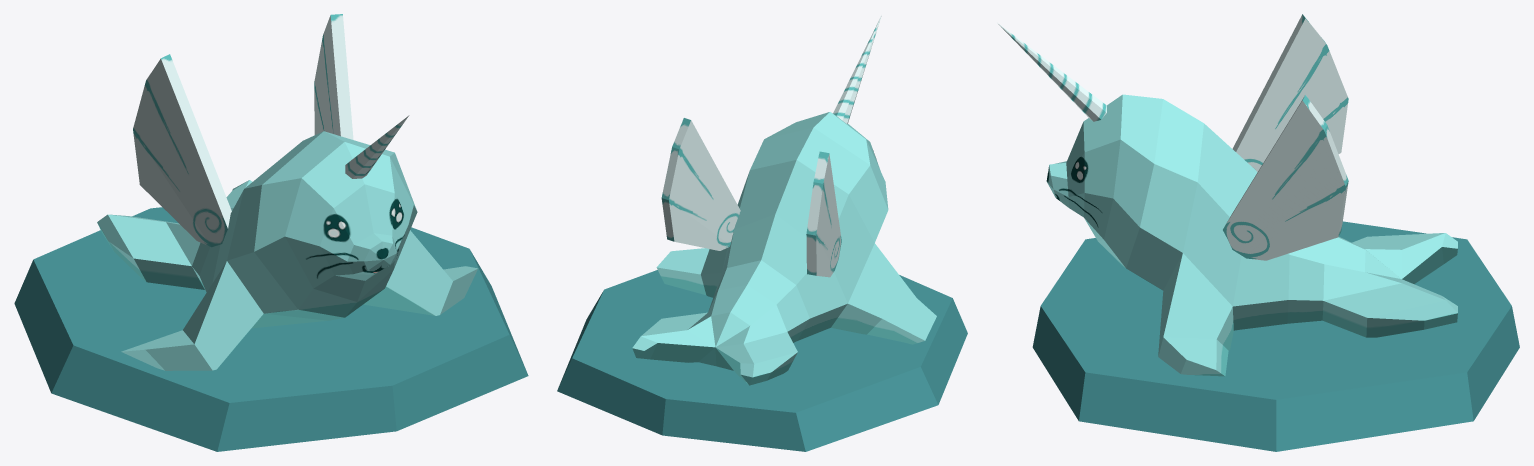
Rendered from Pawn_Ashely.fbx.
The picture shows the model from 3 angles, left to right: view 1: azimuth 30°, elevation 25°; view 2: azimuth 150°, elevation 25°; view 3: azimuth 270°, elevation 25°; orthographic projection. The views are drawn at different scales.
Visible parts, largest first — view 1: Ashley_Stand, polySurface_Body, polySurface_Wings, polySurface_Horn; view 2: polySurface_Body, Ashley_Stand, polySurface_Wings, polySurface_Horn; view 3: Ashley_Stand, polySurface_Body, polySurface_Wings, polySurface_Horn.
Part boxes in pixels (x1,y1,x2,y2): Ashley_Stand: (14,207,528,451); polySurface_Body: (97,131,478,370); polySurface_Wings: (133,14,353,247); polySurface_Horn: (345,115,409,178); polySurface_Body: (632,112,936,385); Ashley_Stand: (557,270,967,451); polySurface_Wings: (661,118,841,277); polySurface_Horn: (833,15,881,123); Ashley_Stand: (1032,221,1519,451); polySurface_Body: (1046,94,1457,376); polySurface_Wings: (1223,14,1348,260); polySurface_Horn: (997,23,1106,121).
Size of the model in its own units: 0.1191 by 0.0858 by 0.1261.
